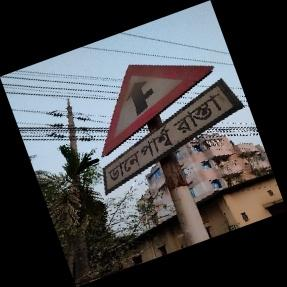Side-road-right: (98, 50, 243, 195)
